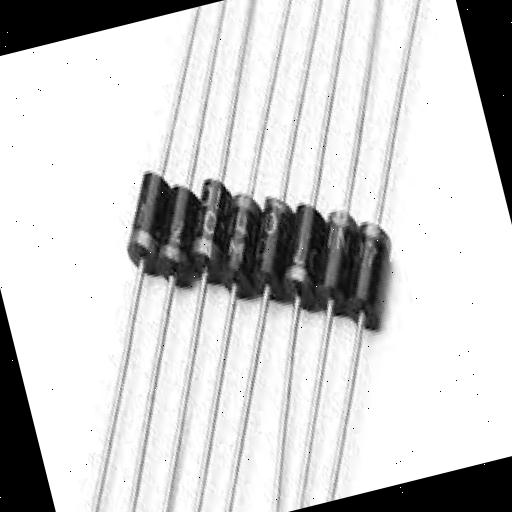DIODE: (0, 0, 512, 512), (327, 185, 450, 361), (96, 143, 194, 302), (166, 148, 259, 313), (280, 187, 364, 352), (148, 166, 228, 311), (316, 194, 390, 332), (250, 180, 320, 311), (219, 178, 284, 304)
